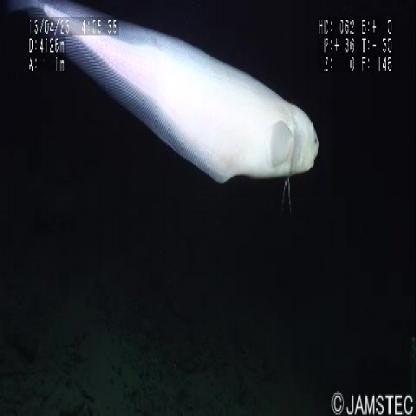Bio: (15, 2, 322, 188)
